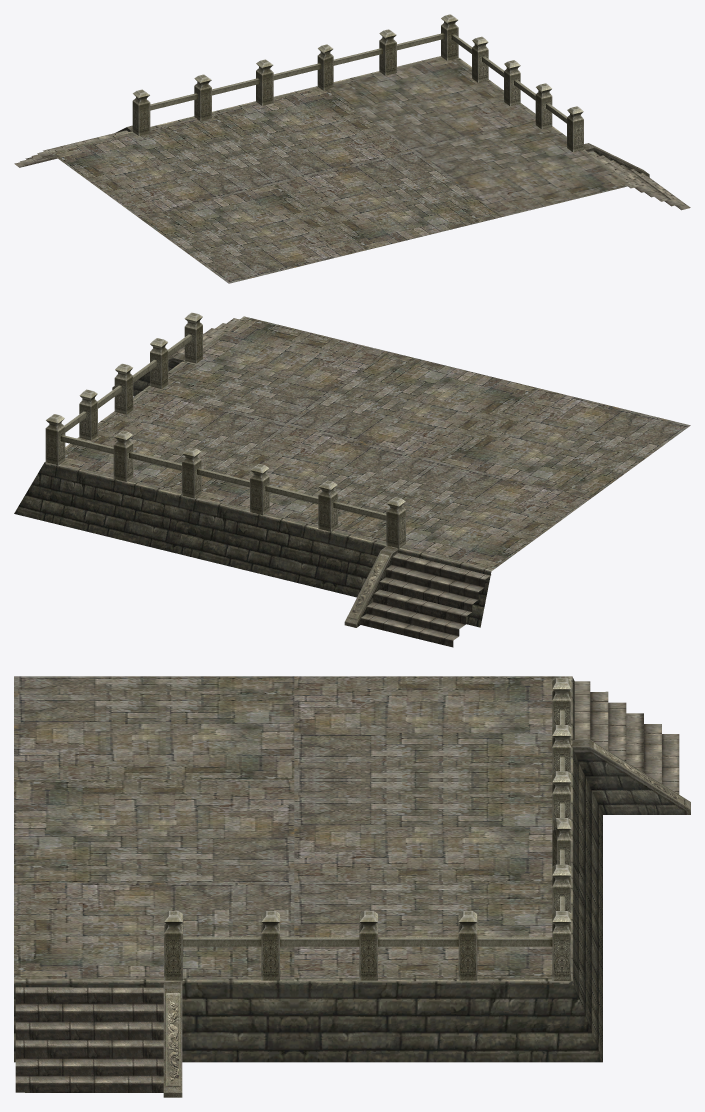
File: ob-tower01_04.glb
The picture shows the model from 3 angles, top to bottom: view 1: azimuth 30°, elevation 25°; view 2: azimuth 150°, elevation 25°; view 3: azimuth 270°, elevation 25°; orthographic projection. The views are drawn at different scales.
Visible parts, largest first — view 1: ob-013-tower01_04; view 2: ob-013-tower01_04; view 3: ob-013-tower01_04.
Part boxes in pixels (<box>): ob-013-tower01_04: <box>14,14,690,283</box>; ob-013-tower01_04: <box>14,312,690,647</box>; ob-013-tower01_04: <box>14,676,690,1097</box>.
Size of the model in its own units: 42.51 by 7.32 by 34.34.
Materials: 1 (1 with a texture image).
